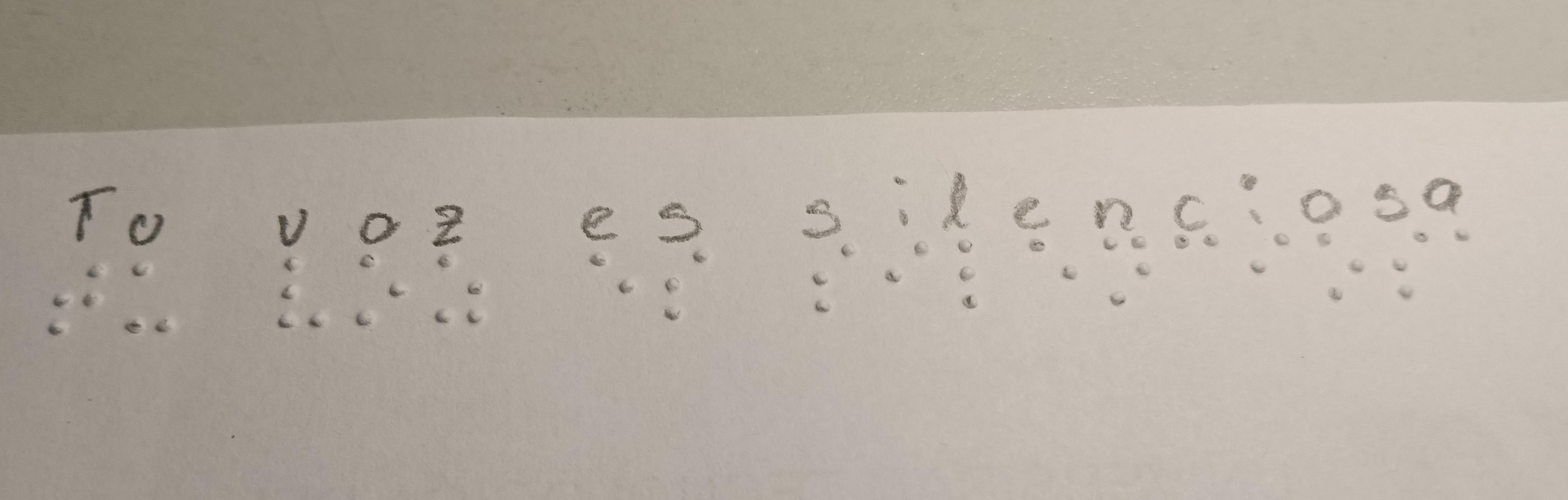a: (1445, 228, 1498, 255)
c: (1158, 229, 1232, 260)
e: (564, 247, 643, 308), (1007, 230, 1080, 293)
i: (879, 239, 940, 285), (1246, 229, 1293, 280)
l: (947, 234, 989, 311)
n: (1089, 229, 1156, 309)
o: (339, 243, 409, 334), (1309, 232, 1371, 307)
s: (647, 246, 724, 321), (785, 243, 862, 316), (1384, 230, 1440, 306)
t: (49, 256, 106, 343)
u: (120, 259, 190, 339)
v: (264, 251, 336, 343)
z: (414, 246, 494, 335)
